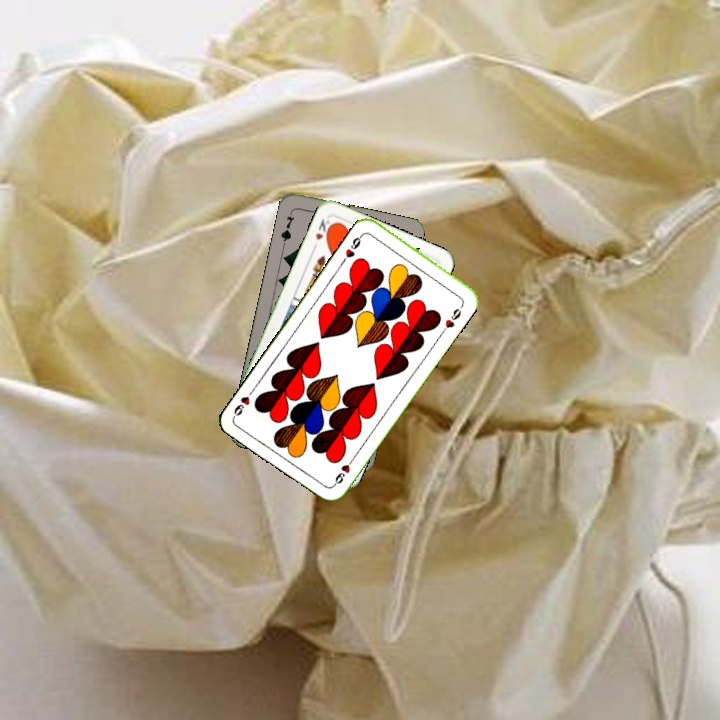G7: (277, 207, 297, 247)
H9: (338, 229, 367, 264), (329, 453, 357, 489)
HK: (308, 215, 335, 253)
